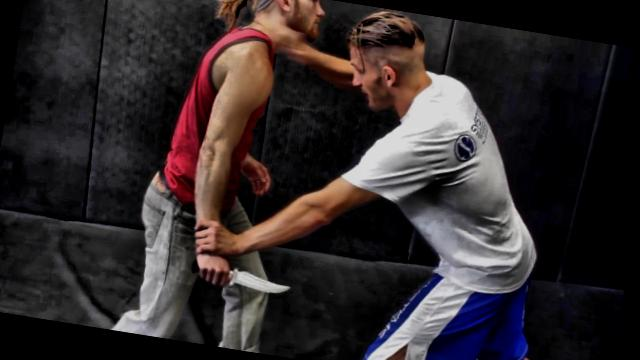knife: (182, 251, 302, 306)
